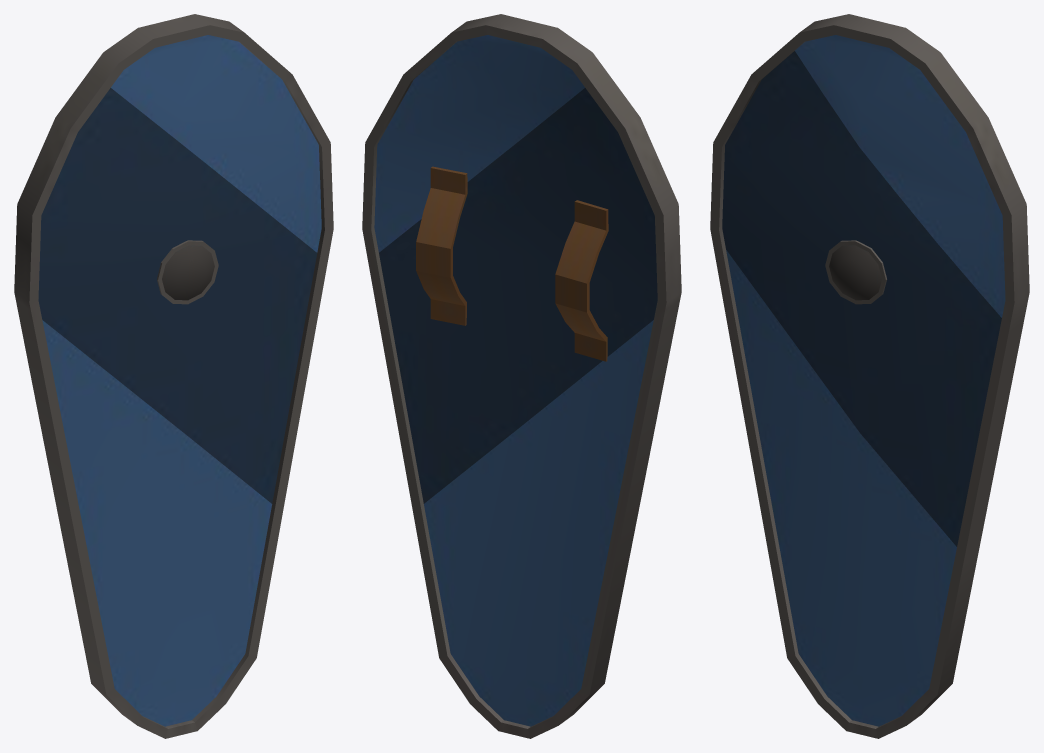
Rendered from Kite Shield_Blue.fbx.
3 renders of one model, left to right at view 1: azimuth 30°, elevation 25°; view 2: azimuth 150°, elevation 25°; view 3: azimuth 330°, elevation 25°, orthographic.
Parts seen in each view (by area): view 1: Kite Shield_Blue_Baked; view 2: Kite Shield_Blue_Baked; view 3: Kite Shield_Blue_Baked.
Boxes of the visible parts, box(x1,y1,x2,y2) form: Kite Shield_Blue_Baked: box(14, 14, 333, 738); Kite Shield_Blue_Baked: box(362, 14, 681, 738); Kite Shield_Blue_Baked: box(710, 14, 1029, 738).
Bounding box in the file's own units: 43.23 × 95.42 × 9.4.
Materials: 1 (1 with a texture image).
